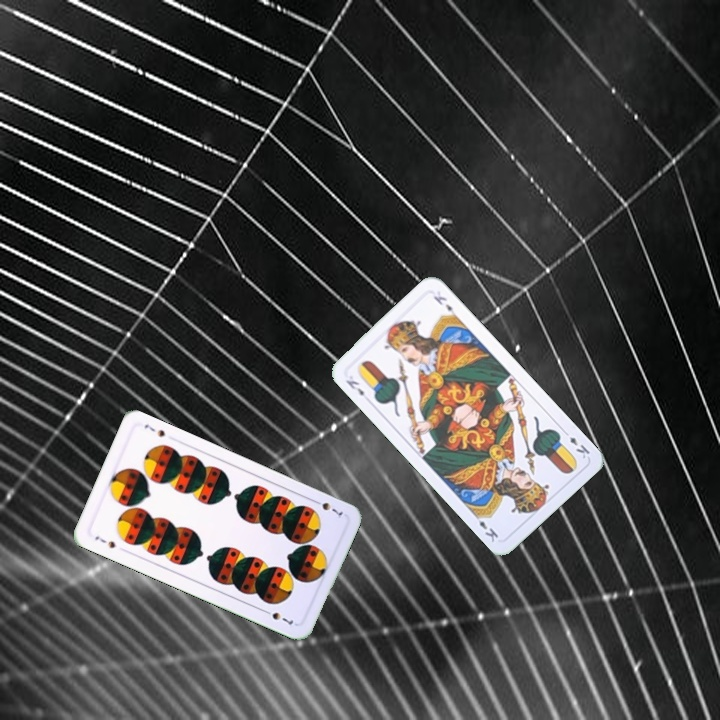EK: (559, 426, 592, 461), (342, 376, 367, 399)
S7: (309, 495, 345, 521), (91, 532, 118, 551)
